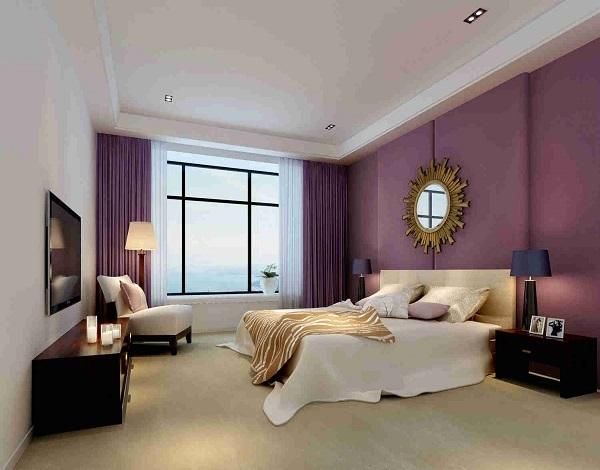床: (255, 309, 505, 418)
枕头: (359, 278, 497, 325)
灯: (511, 249, 559, 336), (123, 219, 157, 305), (349, 258, 376, 303), (466, 9, 493, 27), (162, 92, 177, 105), (324, 122, 340, 134)
